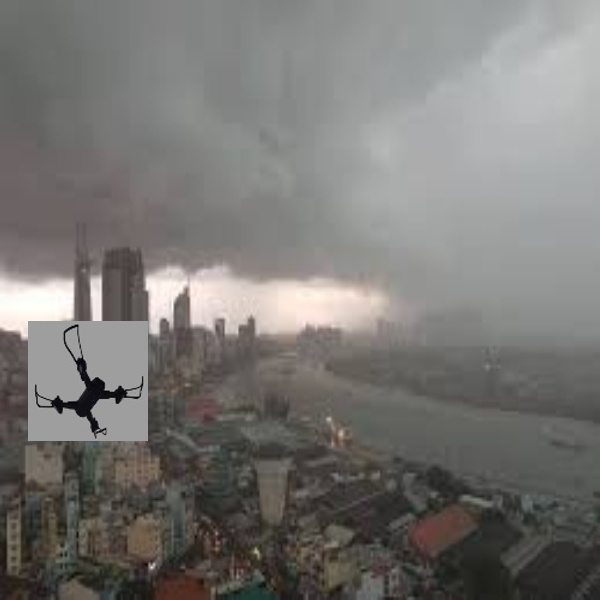drone: (33, 322, 151, 440)
